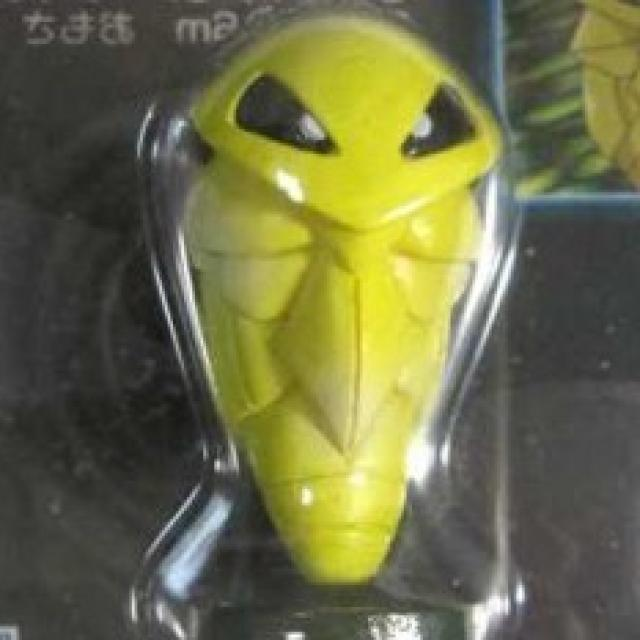Kakuna: (151, 3, 512, 601)
